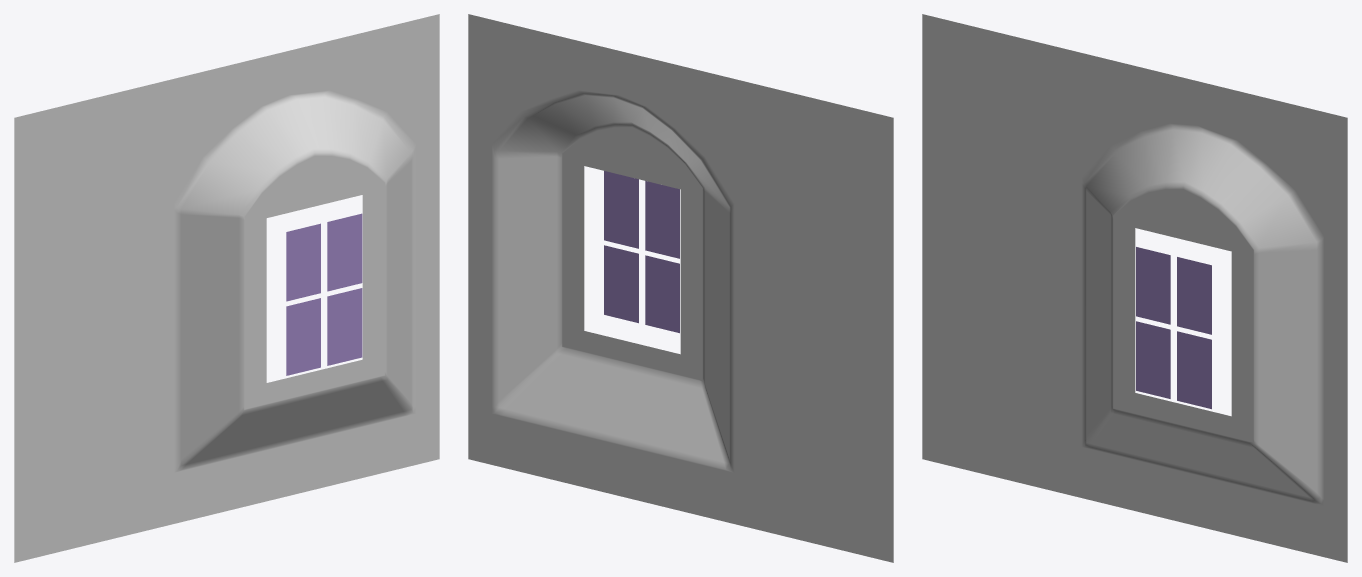
File: window_d_inside_variant_b.fbx
3 renders of one model, left to right at view 1: azimuth 30°, elevation 25°; view 2: azimuth 150°, elevation 25°; view 3: azimuth 330°, elevation 25°, orthographic.
Parts seen in each view (by area): view 1: Plane.059, Plane.078; view 2: Plane.059, Plane.078; view 3: Plane.059, Plane.078.
Part boxes in pixels (bbox=[...]): Plane.059: bbox=[14, 14, 439, 562]; Plane.078: bbox=[286, 213, 362, 375]; Plane.059: bbox=[468, 14, 893, 562]; Plane.078: bbox=[604, 171, 679, 333]; Plane.059: bbox=[922, 14, 1347, 562]; Plane.078: bbox=[1136, 247, 1211, 409].
Bounding box in the file's own units: 5 × 5 × 0.5938.
